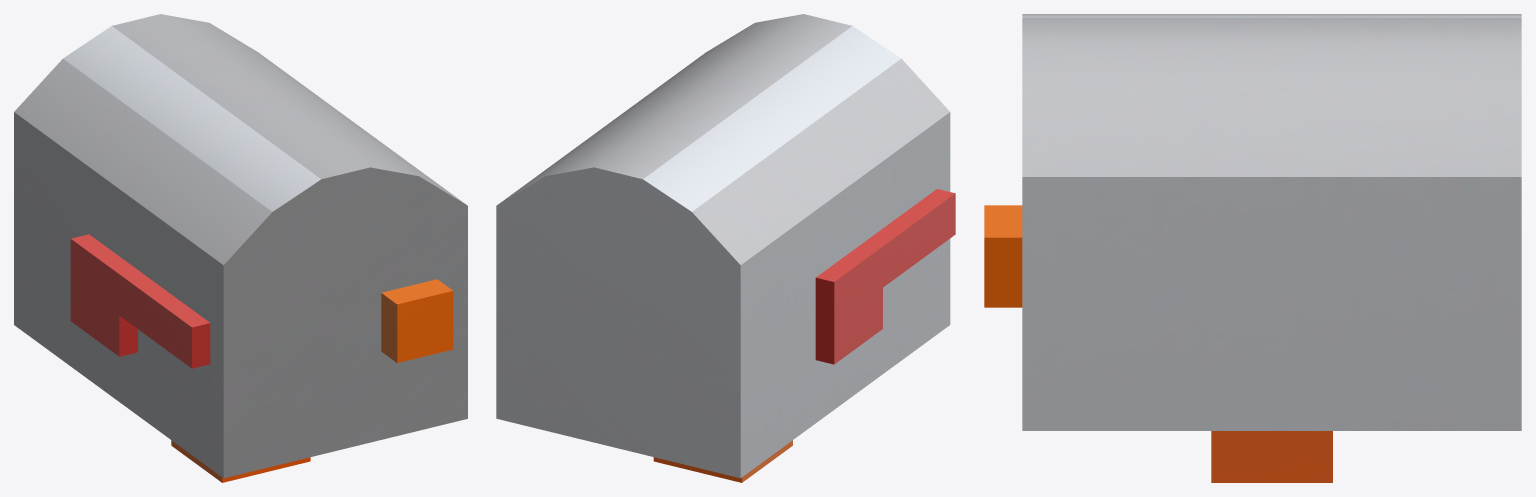
The model's file is SM_Buzon.fbx.
The picture shows the model from 3 angles, left to right: view 1: azimuth 30°, elevation 25°; view 2: azimuth 150°, elevation 25°; view 3: azimuth 270°, elevation 25°; orthographic projection. The views are drawn at different scales.
Visible parts, largest first — view 1: MSH_Buzon; view 2: MSH_Buzon; view 3: MSH_Buzon.
Boxes of the visible parts, left/top/right/bottom form: MSH_Buzon: left=14, top=14, right=467, bottom=482; MSH_Buzon: left=496, top=14, right=955, bottom=482; MSH_Buzon: left=984, top=14, right=1521, bottom=482.
Size of the model in its own units: 21.55 by 27.98 by 32.05.
1 material, 1 textured.
